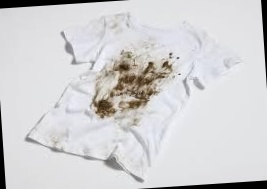earth: (110, 61, 159, 97), (158, 53, 176, 78), (120, 97, 148, 110), (94, 100, 114, 116)
